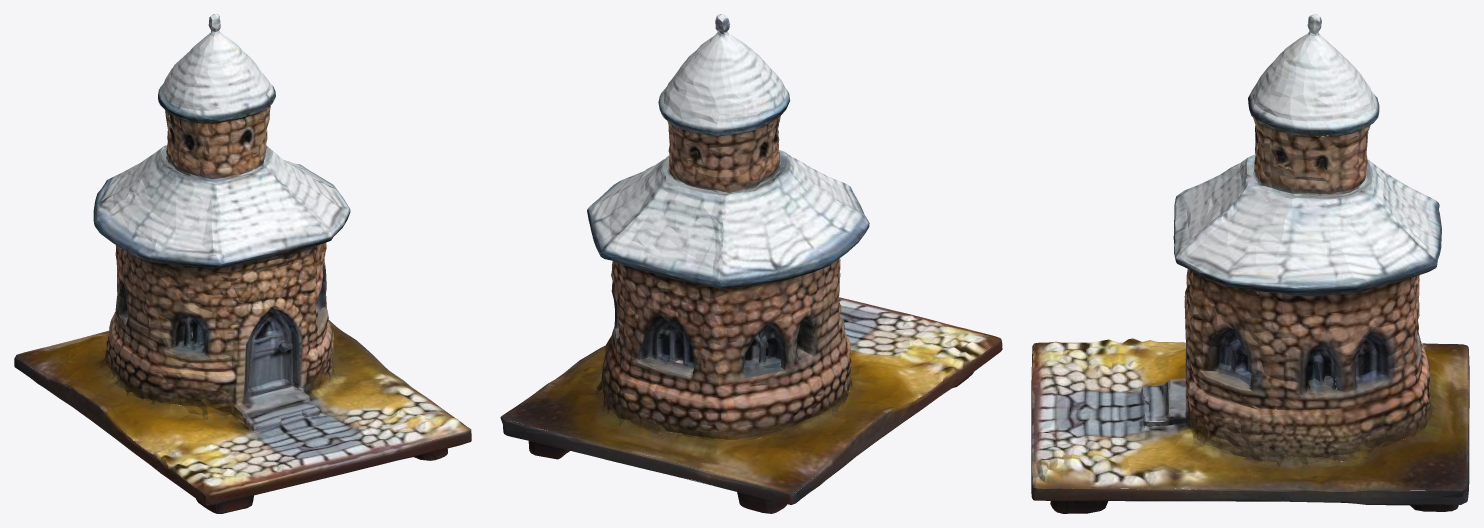
Rendered from wt-village-chapel.glb.
3 renders of one model, left to right at view 1: azimuth 30°, elevation 25°; view 2: azimuth 150°, elevation 25°; view 3: azimuth 270°, elevation 25°, orthographic. The views are drawn at different scales.
Parts seen in each view (by area): view 1: tmpukr_lk8_.ply; view 2: tmpukr_lk8_.ply; view 3: tmpukr_lk8_.ply.
Part boxes in pixels (x1,y1,x2,y2): tmpukr_lk8_.ply: [14, 14, 471, 513]; tmpukr_lk8_.ply: [500, 14, 1002, 513]; tmpukr_lk8_.ply: [1031, 14, 1469, 513].
Bounding box in the file's own units: 4.31 × 5.84 × 5.31.
1 material, 1 textured.
